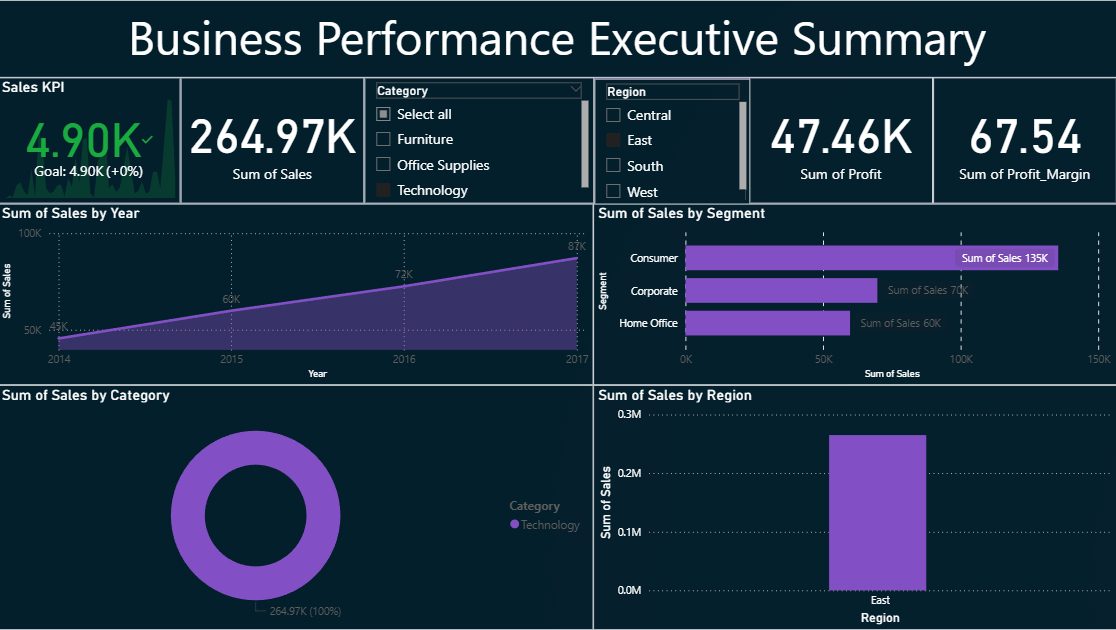

The dashboard page shown, as its layout file describes it:
{"tool":"powerbi","page":{"name":"Page 1","canvas":[1280,720],"ordinal":0},"visuals":[{"type":"lineChart","fields":{"Category":["Superstore_clean.MonthYear.Variation.Date Hierarchy.Year","Superstore_clean.MonthYear.Variation.Date Hierarchy.Quarter","Superstore_clean.MonthYear.Variation.Date Hierarchy.Month","Superstore_clean.MonthYear.Variation.Date Hierarchy.Day"],"Y":["Sum(Superstore_clean.Sales)"]},"box":[0,233.3,682,207.2],"z":0},{"type":"clusteredColumnChart","fields":{"Category":["Superstore_clean.Region"],"Y":["Sum(Superstore_clean.Sales)"]},"box":[682,440.5,598.3,279.9],"z":1000},{"type":"donutChart","fields":{"Category":["Superstore_clean.Category"],"Y":["Sum(Superstore_clean.Sales)"]},"box":[0,440.5,682,279.9],"z":2000},{"type":"kpi","title":"Sales KPI","fields":{"Indicator":["Sum(Superstore_clean.Sales)"],"TrendLine":["Superstore_clean.YearMonth"],"Goal":["Sum(Superstore_clean.Sales)"]},"box":[0,89.2,209.9,144.1],"z":3000},{"type":"slicer","fields":{"Values":["Superstore_clean.Region"]},"box":[682.9,89.6,179.1,144.3],"z":4000},{"type":"slicer","fields":{"Values":["Superstore_clean.Category"]},"box":[419.9,89.2,262.1,144.1],"z":5000},{"type":"card","fields":{"Values":["Sum(Superstore_clean.Sales)"]},"box":[209.9,89.2,209.9,144.1],"z":6000},{"type":"card","fields":{"Values":["Sum(Superstore_clean.Profit)"]},"box":[860.4,89.2,209.9,144.1],"z":7000},{"type":"card","fields":{"Values":["Sum(Superstore_clean.Profit_Margin)"]},"box":[1070.3,89.2,209.9,144.1],"z":8000},{"type":"clusteredBarChart","fields":{"Category":["Superstore_clean.Segment"],"Y":["Sum(Superstore_clean.Sales)"]},"box":[682,233.3,598.3,207.2],"z":9000},{"type":"textbox","box":[0,0,1280.3,89.2],"z":10000}]}

Visuals, with their boxes in screenshot pixels (x1, y1, x2, y2), scaled from the page's 1280x720 canvas onto the 1116x630 screenshot:
lineChart - Superstore_clean.MonthYear.Variation.Date Hierarchy.Year x Superstore_clean.MonthYear.Variation.Date Hierarchy.Quarter: 0 204 595 385
clusteredColumnChart - Superstore_clean.Region x Sum(Superstore_clean.Sales): 595 385 1115 629
donutChart - Superstore_clean.Category x Sum(Superstore_clean.Sales): 0 385 595 629
"Sales KPI" kpi: 0 78 183 204
slicer - Superstore_clean.Region: 595 78 752 205
slicer - Superstore_clean.Category: 366 78 595 204
card - Sum(Superstore_clean.Sales): 183 78 366 204
card - Sum(Superstore_clean.Profit): 750 78 933 204
card - Sum(Superstore_clean.Profit_Margin): 933 78 1115 204
clusteredBarChart - Superstore_clean.Segment x Sum(Superstore_clean.Sales): 595 204 1115 385
textbox: 0 0 1115 78
